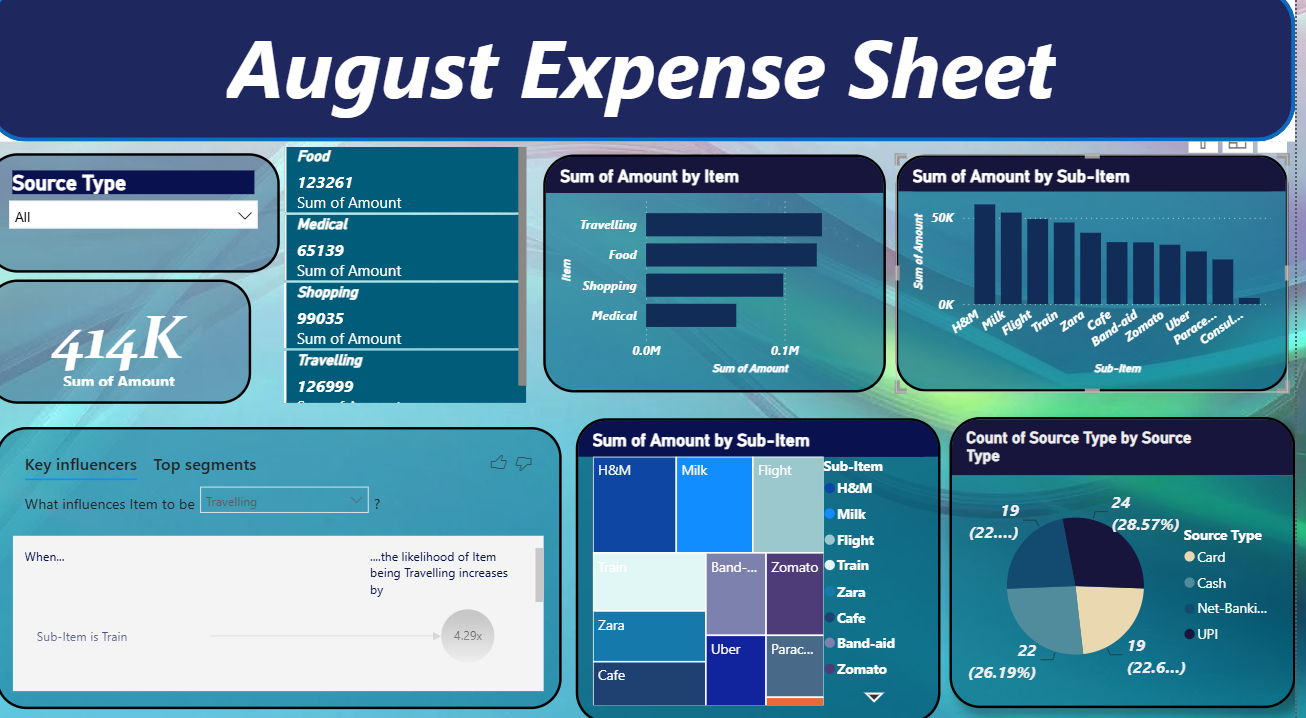

What the dashboard file says about the page in this screenshot:
{"tool":"powerbi","page":{"name":"Page 1","canvas":[1280,720],"ordinal":0},"visuals":[{"type":"pieChart","fields":{"Y":["CountNonNull(august_expenses.Source Type)"],"Series":["august_expenses.Source Type"]},"box":[941.2,421.2,338.8,285],"z":0},{"type":"barChart","fields":{"Y":["Sum(august_expenses.Amount)"],"Category":["august_expenses.Item"]},"box":[543.8,163.8,335,232.5],"z":1000},{"type":"multiRowCard","fields":{"Values":["august_expenses.Item","Sum(august_expenses.Amount)"]},"box":[286.1,151.8,246.3,260],"z":2000},{"type":"columnChart","fields":{"Y":["Sum(august_expenses.Amount)"],"Category":["august_expenses.Sub-Item"]},"box":[889,163.9,384,232.3],"z":3000},{"type":"card","fields":{"Values":["Sum(august_expenses.Amount)"]},"box":[0,286.1,258.7,121.9],"z":4000},{"type":"treemap","fields":{"Group":["august_expenses.Sub-Item"],"Values":["Sum(august_expenses.Amount)"]},"box":[576,421.7,357,298.6],"z":5000},{"type":"shape","box":[0,0,1280,151.2],"z":6000},{"type":"slicer","fields":{"Values":["august_expenses.Source Type"]},"box":[0,163,286.1,116.9],"z":7000},{"type":"keyDriversVisual","fields":{"Target":["august_expenses.Item"],"ExplainBy":["august_expenses.Sub-Item","Sum(august_expenses.Amount)"]},"box":[8.6,430.4,553.9,276.4],"z":8000}]}

Visuals, with their boxes in screenshot pixels (x1, y1, x2, y2), scaled from the page's 1280x720 canvas onto the 1306x718 screenshot:
pieChart - CountNonNull(august_expenses.Source Type) x august_expenses.Source Type: l=960, t=420, r=1305, b=704
barChart - Sum(august_expenses.Amount) x august_expenses.Item: l=555, t=163, r=897, b=395
multiRowCard - august_expenses.Item x Sum(august_expenses.Amount): l=292, t=151, r=543, b=411
columnChart - Sum(august_expenses.Amount) x august_expenses.Sub-Item: l=907, t=163, r=1299, b=395
card - Sum(august_expenses.Amount): l=0, t=285, r=264, b=407
treemap - august_expenses.Sub-Item x Sum(august_expenses.Amount): l=588, t=421, r=952, b=717
shape: l=0, t=0, r=1305, b=151
slicer - august_expenses.Source Type: l=0, t=163, r=292, b=279
keyDriversVisual - august_expenses.Item x august_expenses.Sub-Item: l=9, t=429, r=574, b=705
